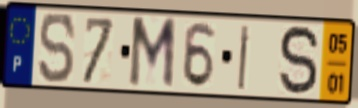6: (180, 20, 218, 90)
7: (81, 16, 116, 85)
I: (236, 23, 253, 93)
M: (127, 16, 179, 92)
S: (278, 22, 321, 98), (38, 10, 78, 85)
